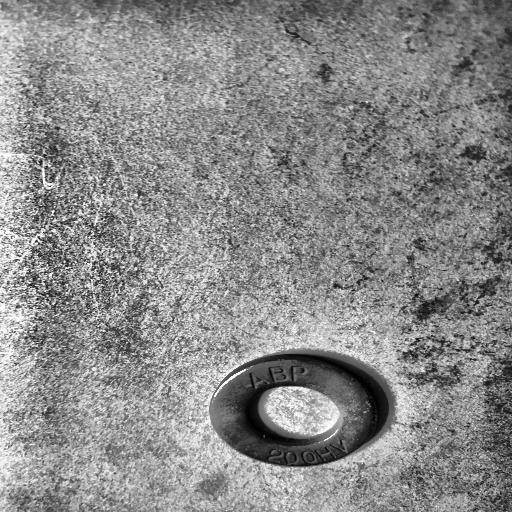Washer: (209, 350, 393, 469)
